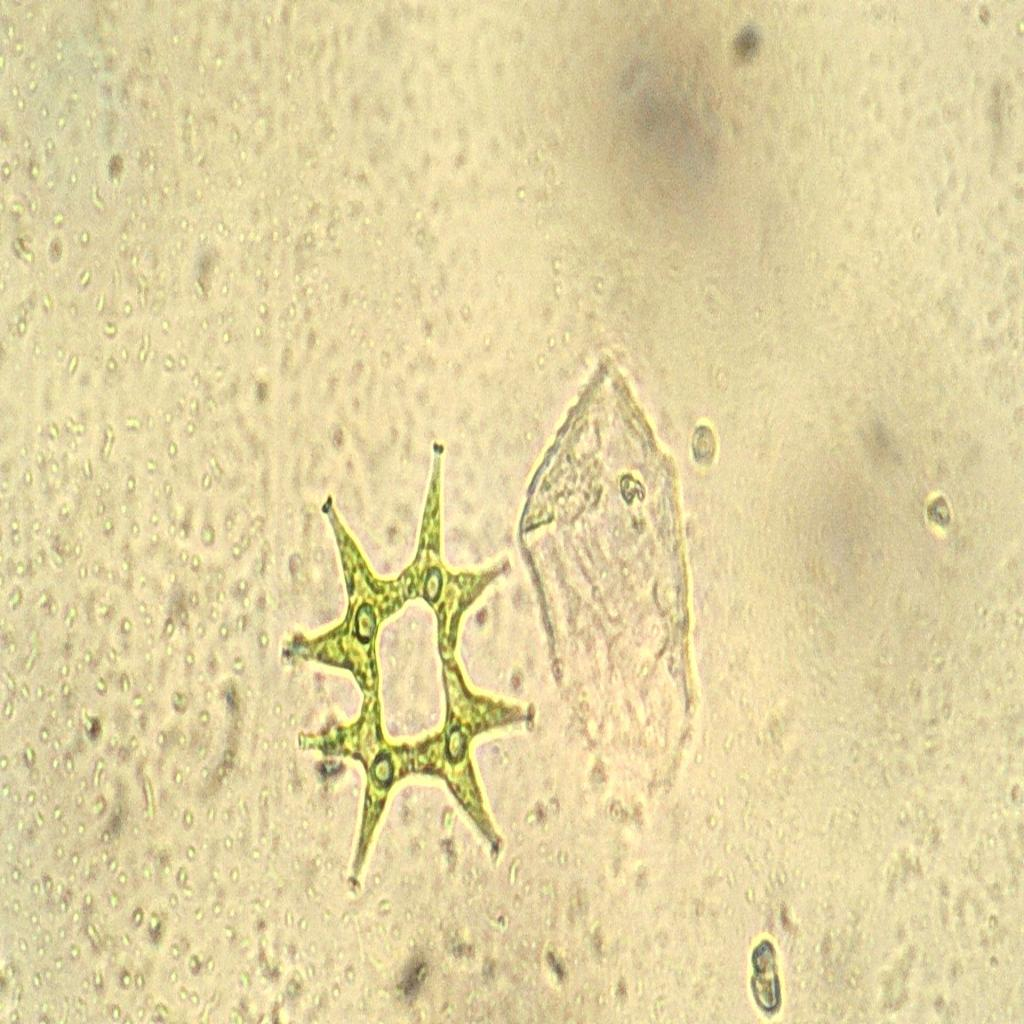Pediastrum_10: (274, 415, 552, 925)
